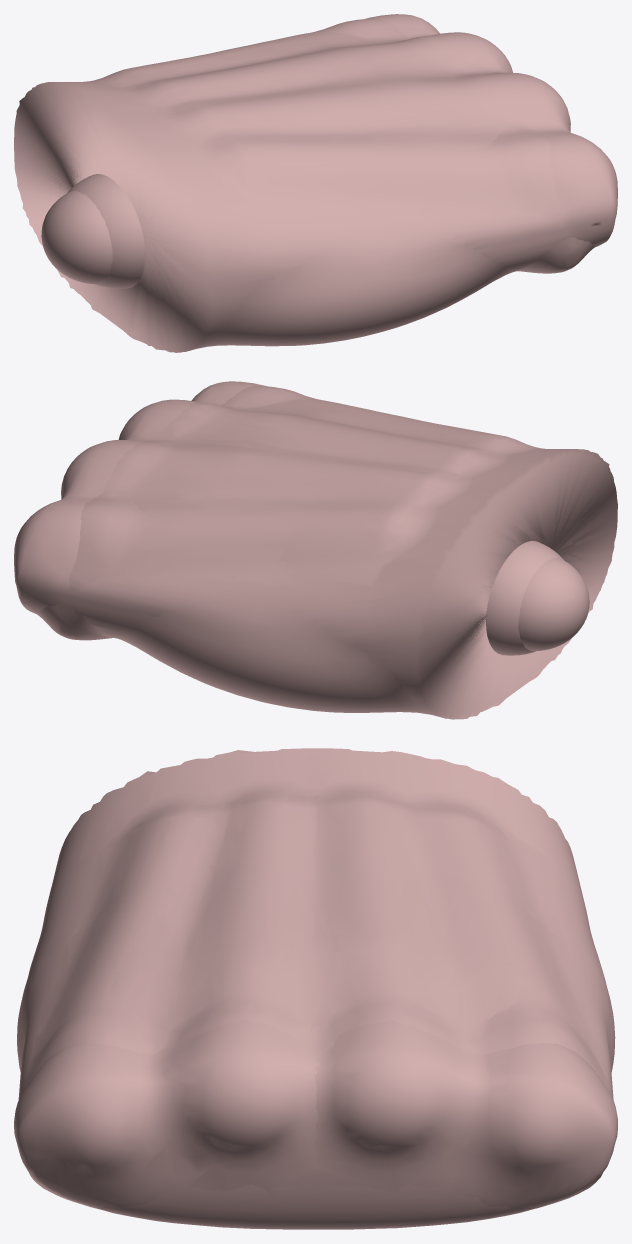
Rendered from hand_parts.glb.
3 renders of one model, top to bottom at view 1: azimuth 30°, elevation 25°; view 2: azimuth 150°, elevation 25°; view 3: azimuth 270°, elevation 25°, orthographic. The views are drawn at different scales.
Parts seen in each view (by area): view 1: palm, palm_mir, f1_1, tp; view 2: palm_mir, palm, f1_1, tp; view 3: palm, palm_mir.
Boxes of the visible parts, <box> form: palm: <box>14,14,595,352</box>; palm_mir: <box>14,18,617,351</box>; f1_1: <box>41,191,112,284</box>; tp: <box>67,174,145,288</box>; palm_mir: <box>36,381,617,719</box>; palm: <box>14,386,617,719</box>; f1_1: <box>519,558,589,650</box>; tp: <box>486,541,564,655</box>; palm: <box>17,748,617,1229</box>; palm_mir: <box>14,748,615,1229</box>.
Bounding box in the file's own units: 37.72 × 15.86 × 31.33.
